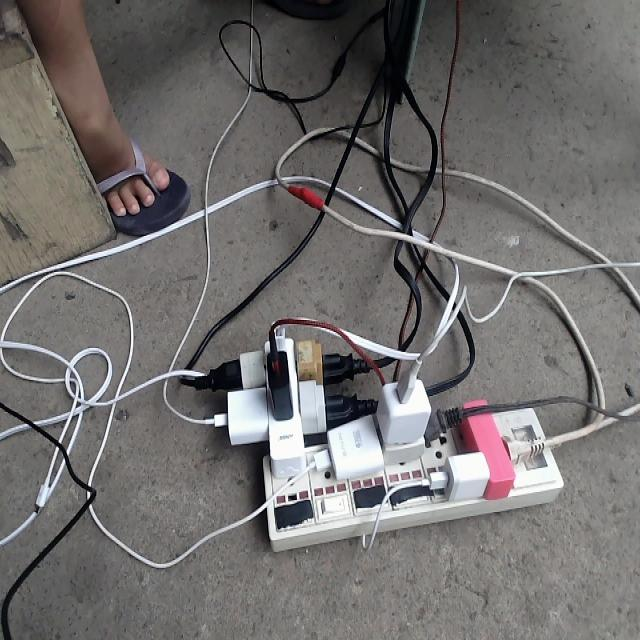-: (203, 314, 562, 550)
